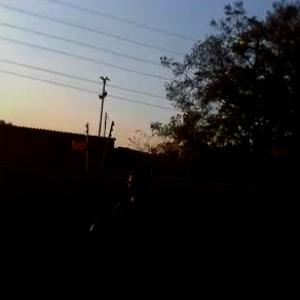follow: (79, 163, 171, 299)
